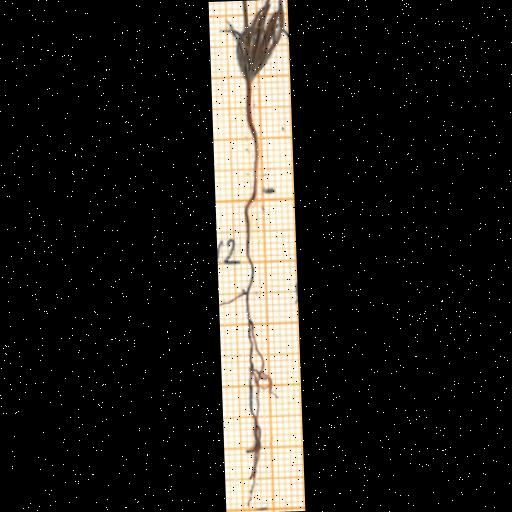flowerPinus: (225, 0, 285, 81)
rootPinus: (228, 193, 271, 502)
stemPinus: (246, 79, 259, 191)
